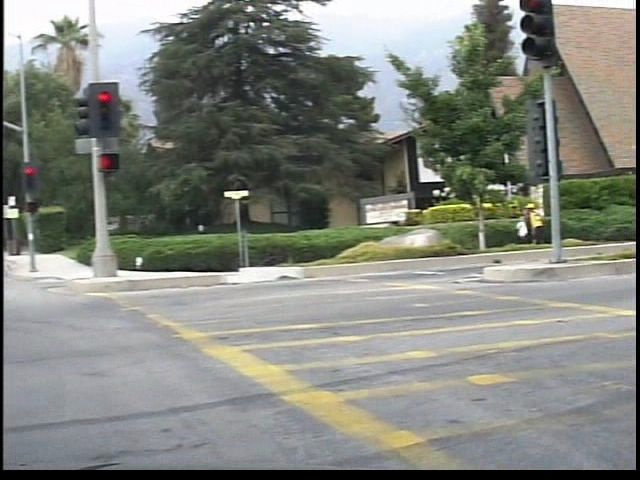person: (535, 193, 558, 248)
